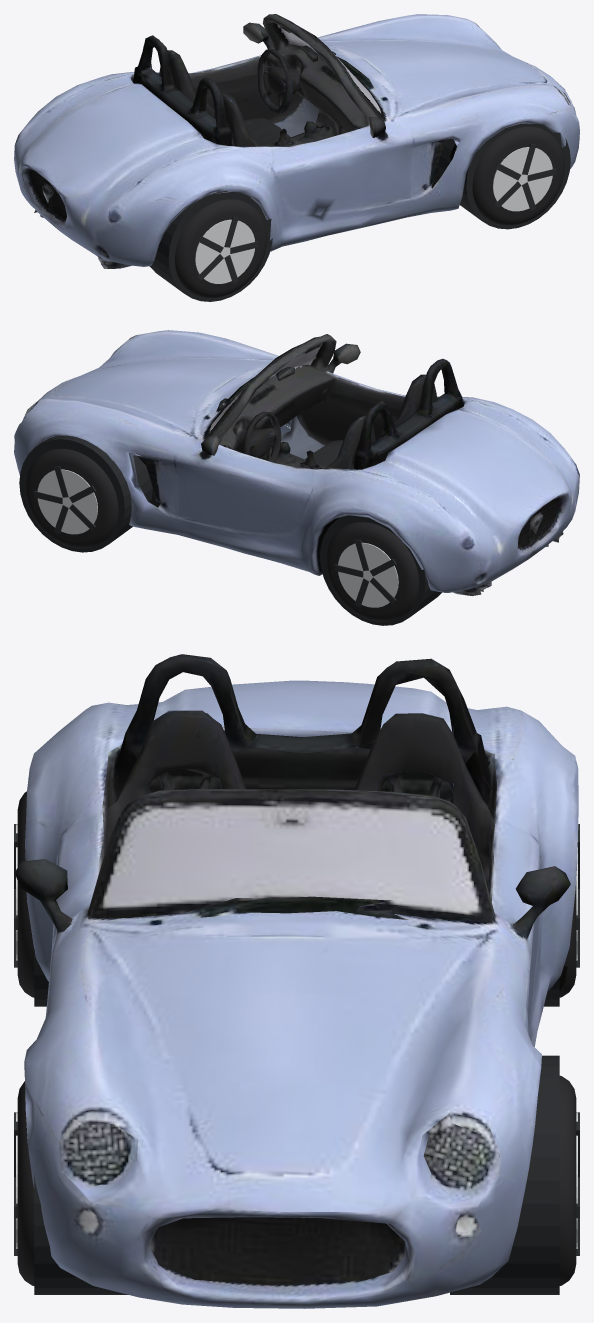
Rendered from roadster.glb.
3 renders of one model, top to bottom at view 1: azimuth 30°, elevation 25°; view 2: azimuth 150°, elevation 25°; view 3: azimuth 270°, elevation 25°, orthographic. The views are drawn at different scales.
Parts seen in each view (by area): view 1: Body, Wheel_FR, Wheel_RR, Liner_RR, Liner_FR; view 2: Body, Wheel_FL, Wheel_RL, Liner_FL, Liner_RL; view 3: Body, Liner_FL, Wheel_FL, Wheel_FR, Wheel_RR, Liner_FR, Wheel_RL.
Boxes of the visible parts, box(x1,y1,x2,y2) form: Body: box(14, 14, 579, 268); Wheel_FR: box(472, 126, 564, 225); Wheel_RR: box(175, 199, 267, 298); Liner_RR: box(149, 191, 272, 301); Liner_FR: box(438, 123, 570, 229); Body: box(14, 330, 579, 595); Wheel_FL: box(25, 448, 118, 548); Wheel_RL: box(326, 522, 419, 621); Liner_FL: box(19, 435, 152, 552); Liner_RL: box(320, 515, 441, 625); Body: box(14, 654, 578, 1308); Liner_FL: box(450, 1055, 559, 1294); Wheel_FL: box(559, 1075, 579, 1285); Wheel_FR: box(14, 1081, 34, 1285); Wheel_RR: box(14, 791, 34, 997); Liner_FR: box(34, 1174, 128, 1294); Wheel_RL: box(559, 824, 579, 997).
Size of the model in its own units: 1.86 by 0.6525 by 0.9113.
5 materials, 1 textured.
